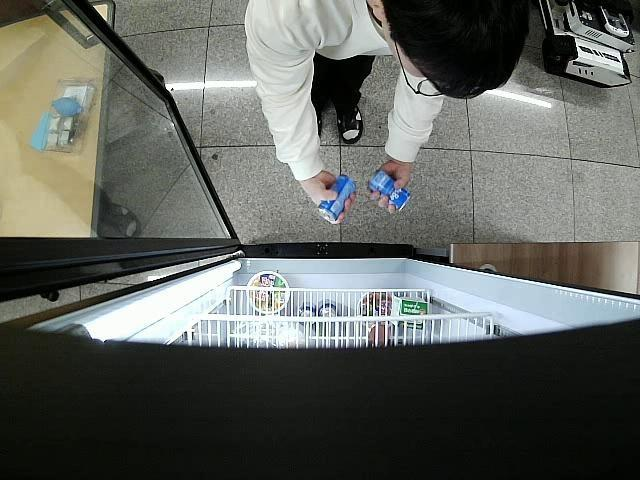15_letsbe: (367, 170, 412, 212), (318, 174, 354, 223)
